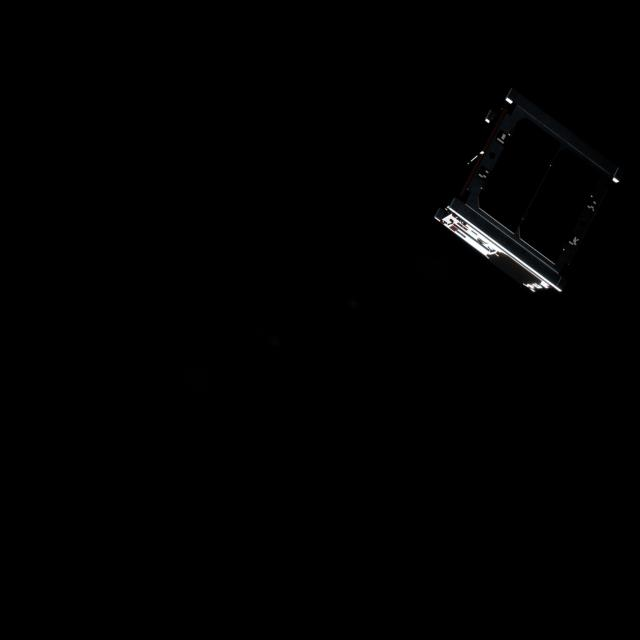satellite: (430, 89, 630, 303)
